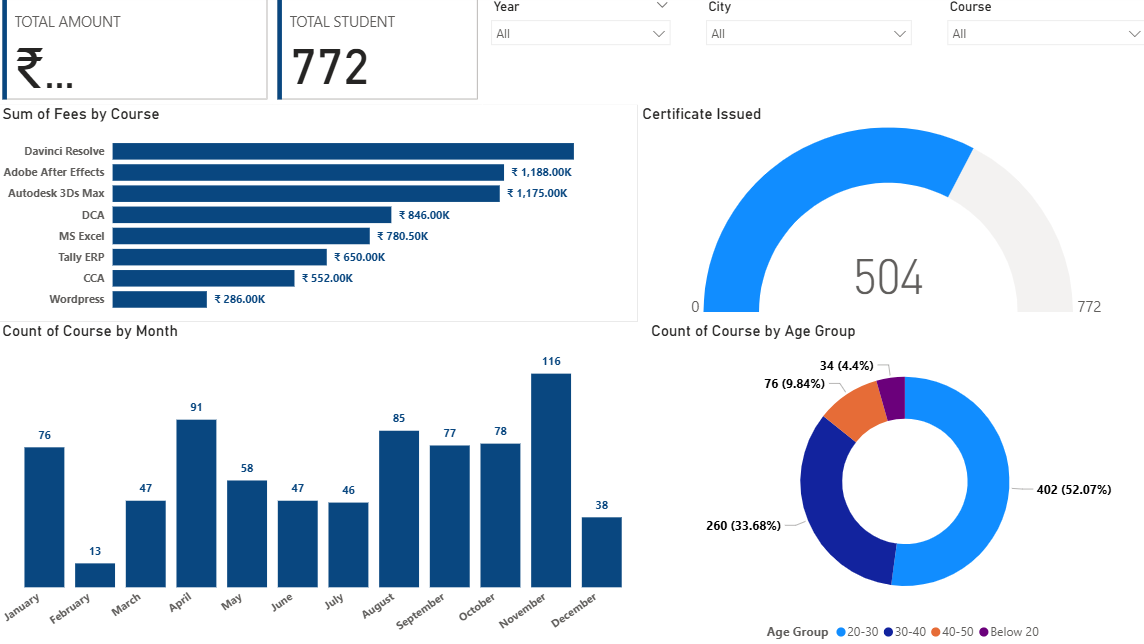

This screenshot's page, from the dashboard's own definition file:
{"tool":"powerbi","page":{"name":"ABC inst Report","canvas":[1280,720],"ordinal":0},"visuals":[{"type":"clusteredColumnChart","fields":{"Y":["Student Course Details.Date of join"],"Category":["Student Course Details.Date of join.Variation.Date Hierarchy.Month"]},"box":[0,360,712.9,360],"z":0},{"type":"donutChart","fields":{"Y":["Student Course Details.Course"],"Category":["Student Course Details.Age Group"]},"box":[712.9,360,567.1,360],"z":1},{"type":"clusteredBarChart","fields":{"Category":["Student Course Details.Course"],"Y":["Student Course Details.Fees"]},"box":[0,121.4,702.9,238.6],"z":2},{"type":"cardVisual","fields":{"Data":["Student Course Details.Fees"]},"box":[0,0,301.4,121.4],"z":3},{"type":"cardVisual","fields":{"Data":["Student Course Details.Student name"]},"box":[301.4,0,230,121.4],"z":4},{"type":"gauge","fields":{"Y":["Personal Detail.countYes"]},"box":[702.9,121.4,567.1,238.6],"z":5},{"type":"slicer","fields":{"Values":["Student Course Details.Date of join.Variation.Date Hierarchy.Year"]},"box":[531.4,0,217.1,121.4],"z":6},{"type":"slicer","fields":{"Values":["Personal Detail.City"]},"box":[767.1,0,245.7,121.4],"z":7},{"type":"slicer","fields":{"Values":["Student Course Details.Course"]},"box":[1031.4,0,238.6,121.4],"z":8}]}

Visuals, with their boxes in screenshot pixels (x1, y1, x2, y2), scaled from the page's 1280x720 canvas onto the 1144x644 screenshot:
clusteredColumnChart - Student Course Details.Date of join x Student Course Details.Date of join.Variation.Date Hierarchy.Month: rect(0, 322, 637, 643)
donutChart - Student Course Details.Course x Student Course Details.Age Group: rect(637, 322, 1143, 643)
clusteredBarChart - Student Course Details.Course x Student Course Details.Fees: rect(0, 109, 628, 322)
cardVisual - Student Course Details.Fees: rect(0, 0, 269, 109)
cardVisual - Student Course Details.Student name: rect(269, 0, 475, 109)
gauge - Personal Detail.countYes: rect(628, 109, 1135, 322)
slicer - Student Course Details.Date of join.Variation.Date Hierarchy.Year: rect(475, 0, 669, 109)
slicer - Personal Detail.City: rect(686, 0, 905, 109)
slicer - Student Course Details.Course: rect(922, 0, 1135, 109)
